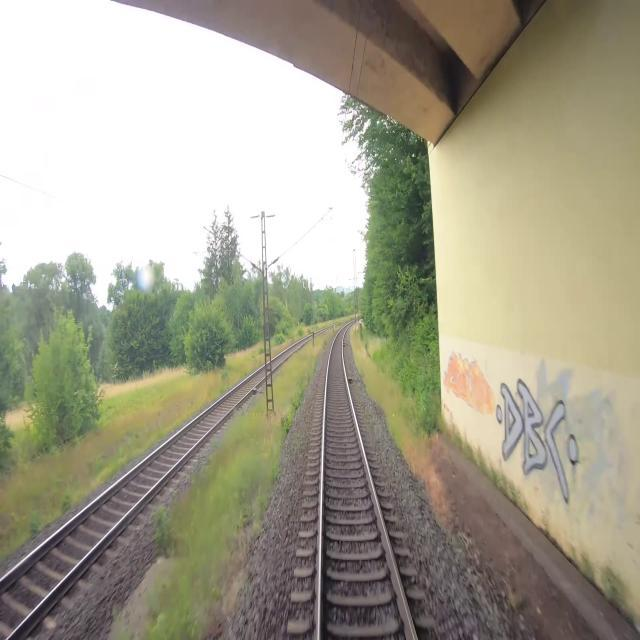Plant: (101, 339, 327, 639)
